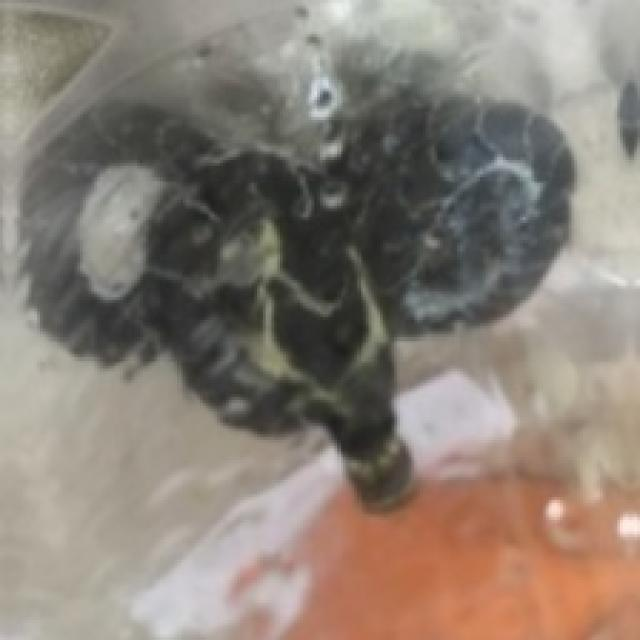king cobra: (20, 0, 571, 509)
